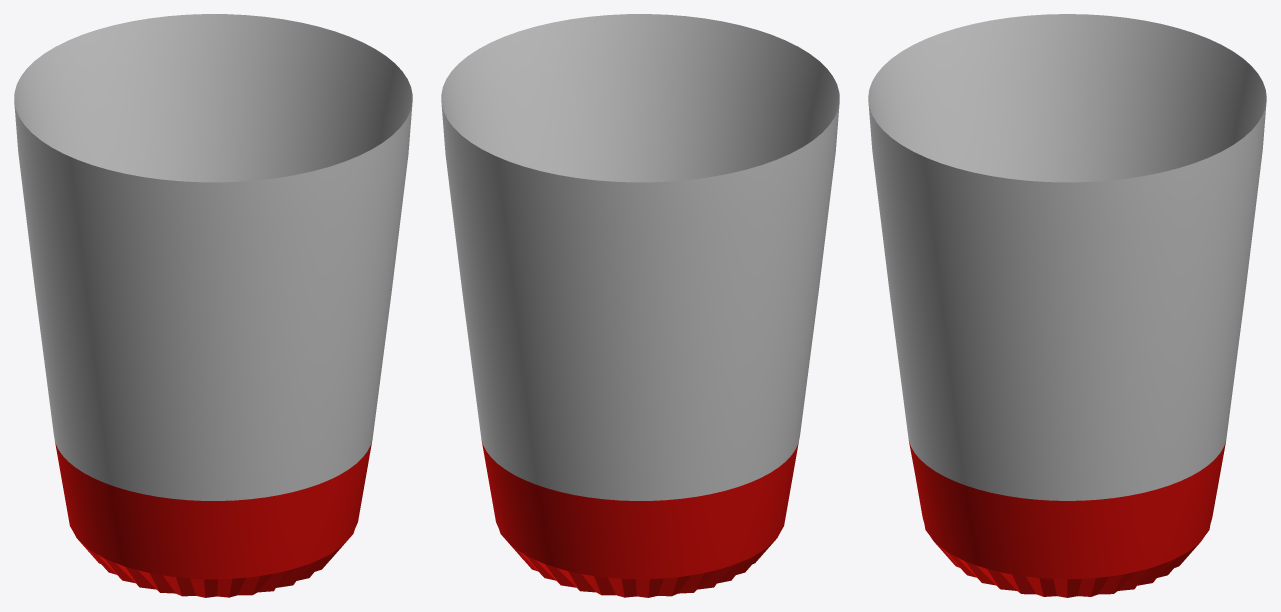
Rendered from naso.fbx.
3 renders of one model, left to right at view 1: azimuth 30°, elevation 25°; view 2: azimuth 150°, elevation 25°; view 3: azimuth 270°, elevation 25°, orthographic.
Visible parts, largest first — view 1: Cylinder; view 2: Cylinder; view 3: Cylinder.
Boxes of the visible parts, left/top/right/bottom form: Cylinder: left=14, top=14, right=412, bottom=597; Cylinder: left=441, top=14, right=839, bottom=597; Cylinder: left=868, top=14, right=1266, bottom=597.
Size of the model in its own units: 149 by 193 by 149.
